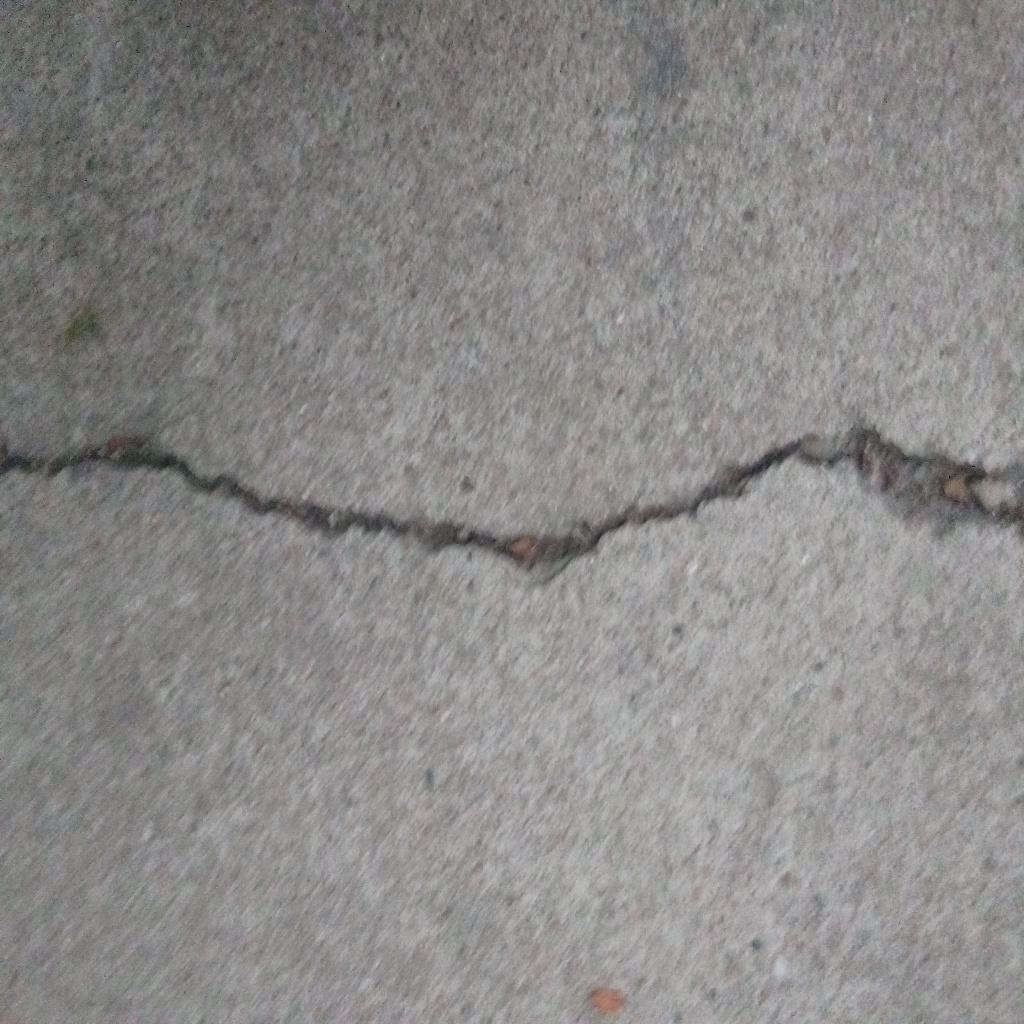Crack: (1, 419, 1024, 572)
